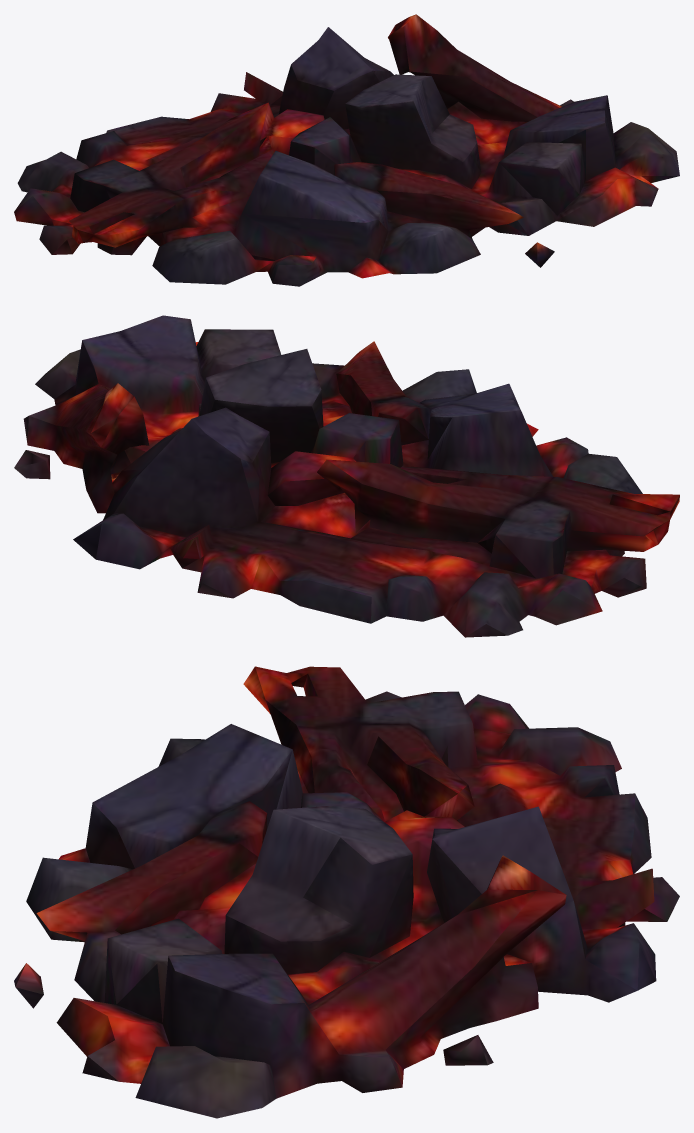
File: d_braises_pied.glb
3 renders of one model, top to bottom at view 1: azimuth 30°, elevation 25°; view 2: azimuth 150°, elevation 25°; view 3: azimuth 270°, elevation 25°, orthographic. The views are drawn at different scales.
Parts seen in each view (by area): view 1: geometry_0; view 2: geometry_0; view 3: geometry_0.
Part boxes in pixels (x1,y1,x2,y2): geometry_0: (14, 14, 679, 286); geometry_0: (14, 315, 679, 637); geometry_0: (14, 666, 679, 1118).
Size of the model in its own units: 1.01 by 0.2099 by 0.7015.
1 material, 1 textured.
